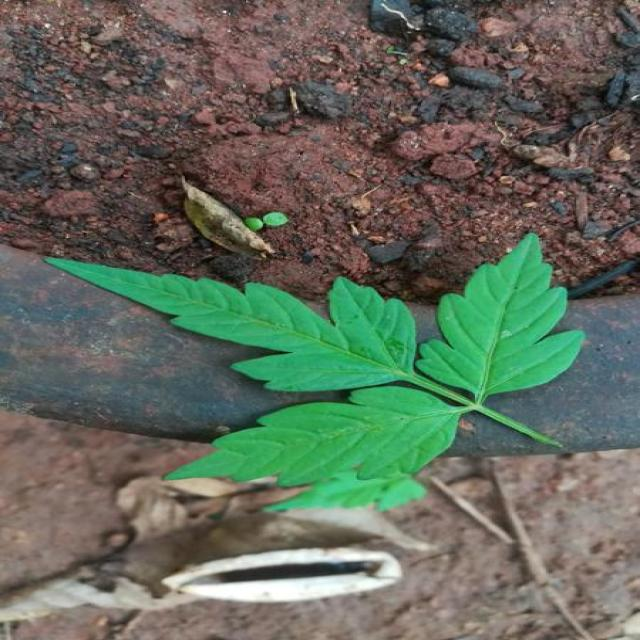balloon_Vine: (47, 258, 415, 391), (167, 388, 462, 510), (415, 235, 585, 402)
